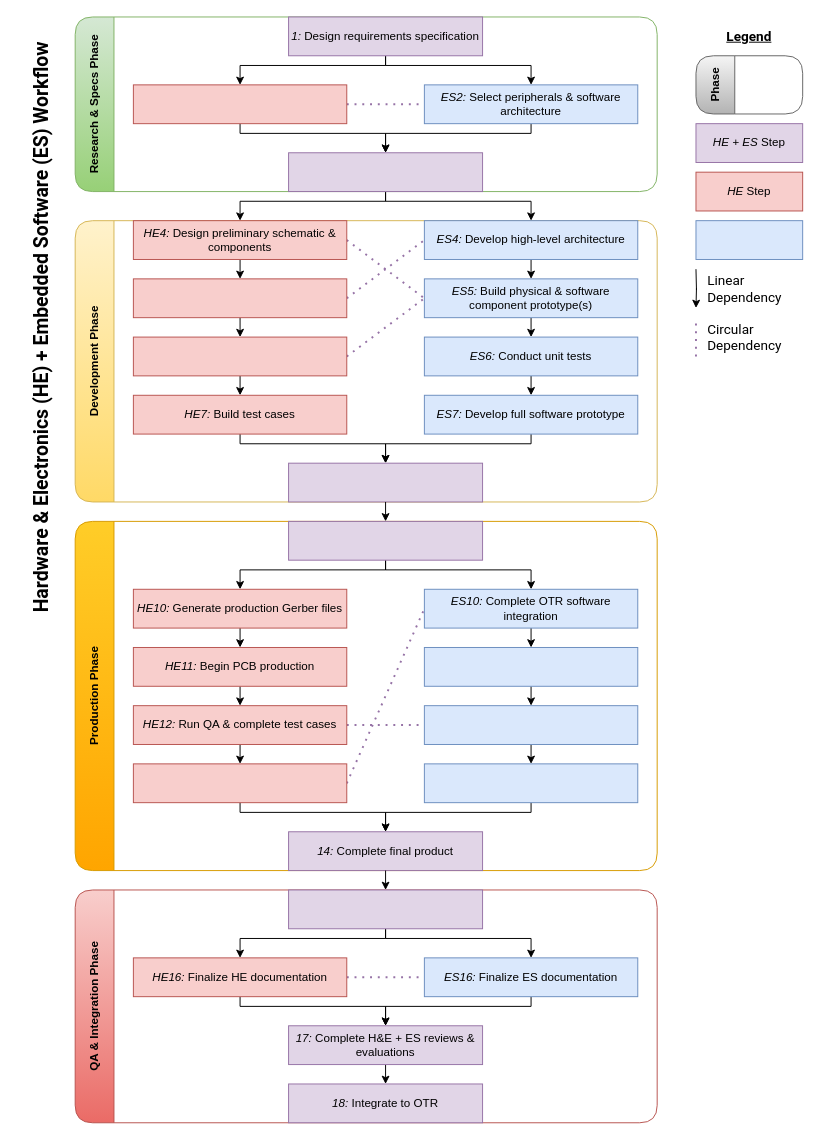
Some shapes in this 820 by 1140 pixel diagram are drawn without their labels. The centre of each missing label's shape, as x and y in pixels:
15: Complete QA Testing: point (385, 909)
3: Select hardware components: point (385, 172)
8: Validate full digital prototype: point (385, 482)
9: Manufacture full physical prototype: point (385, 540)
ES Step: point (749, 239)
ES11: Complete code documentation: point (530, 666)
ES12: Update dependencies & debug tool(s): point (530, 724)
ES13: Build full integration test cases: point (530, 783)
HE13: Assemble & manufacture: point (239, 783)
HE2: Research electromagnetic compatibility: point (239, 104)
HE5: Complete preliminary layout: point (239, 298)
HE6: Validate signals & power distribution: point (239, 356)
